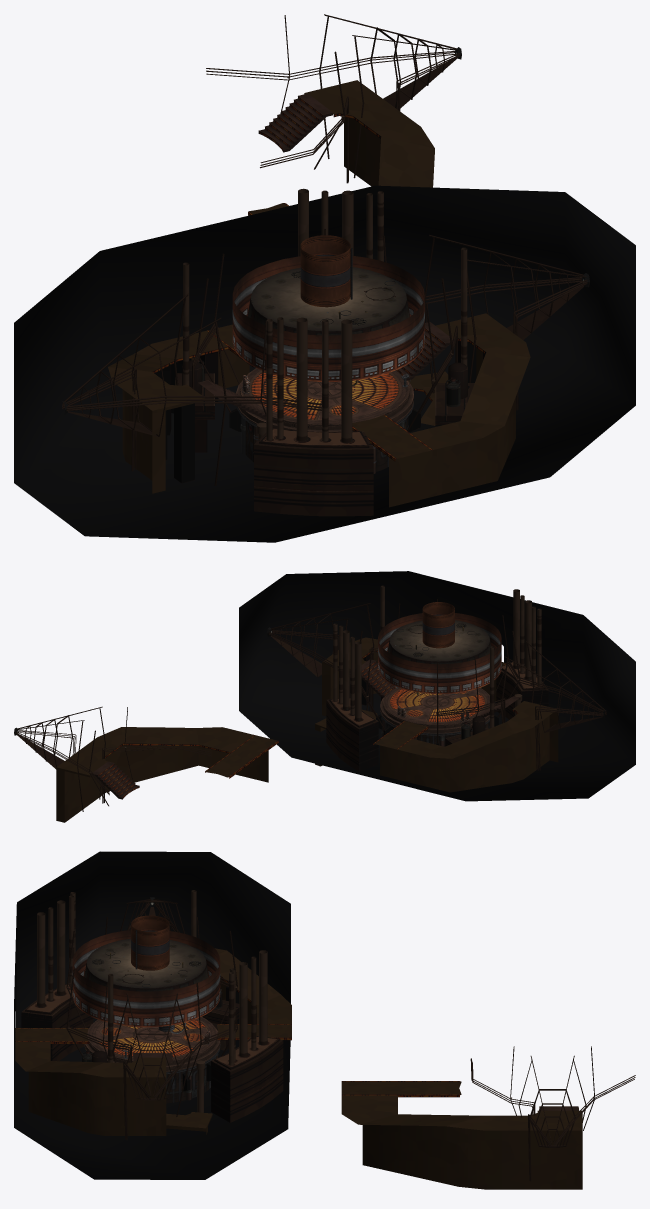
Rendered from env_besp_carbonite_chamber_01_pre.glb.
The picture shows the model from 3 angles, top to bottom: view 1: azimuth 30°, elevation 25°; view 2: azimuth 150°, elevation 25°; view 3: azimuth 270°, elevation 25°; orthographic projection. The views are drawn at different scales.
Parts seen in each view (by area): view 1: refinery_shell (1), refinery_ext_props (1), besp_refinery_ceiling_01_mesh, refinery_walkway1 (2), refinery_ext_props1 (1), refinery_walkway (1), refinery_walkway1, besp_refinery_floor_01a_mesh, besp_refinery_frame_half_01_mesh, besp_refinery_arm_01_mesh, besp_refinery_floor_01b_mesh, besp_refinery_stairs_01_mesh (1) (+3 smaller); view 2: refinery_shell (1), refinery_walkway1, refinery_walkway (1), refinery_ext_props1 (1), besp_refinery_ceiling_01_mesh, refinery_ext_props (1), besp_refinery_floor_01a_mesh, besp_refinery_frame_half_01_mesh, besp_refinery_arm_01_mesh, refinery_walkway1 (2), besp_refinery_floor_01b_mesh, besp_refinery_stairs_01_mesh (1) (+2 smaller); view 3: refinery_shell (1), refinery_walkway1, refinery_ext_props1 (1), refinery_walkway1 (2), besp_refinery_ceiling_01_mesh, refinery_ext_props (1), besp_refinery_floor_01a_mesh, refinery_walkway (1), besp_refinery_arm_01_mesh, besp_refinery_frame_half_01_mesh, besp_refinery_floor_01b_mesh, refinery_walkway1 (3).
Boxes of the visible parts, x1,y1,x2,y2 form: refinery_shell (1): (14, 185, 635, 542); refinery_ext_props (1): (62, 253, 373, 516); besp_refinery_ceiling_01_mesh: (232, 256, 424, 386); refinery_walkway1 (2): (352, 313, 530, 507); refinery_ext_props1 (1): (298, 188, 589, 431); refinery_walkway (1): (108, 324, 253, 493); refinery_walkway1: (248, 80, 434, 215); besp_refinery_floor_01a_mesh: (240, 368, 409, 424); besp_refinery_frame_half_01_mesh: (206, 14, 461, 178); besp_refinery_arm_01_mesh: (300, 235, 352, 307); besp_refinery_floor_01b_mesh: (236, 380, 413, 473); besp_refinery_stairs_01_mesh (1): (258, 93, 332, 152); refinery_shell (1): (239, 571, 635, 801); refinery_walkway1: (56, 727, 278, 822); refinery_walkway (1): (373, 701, 558, 792); refinery_ext_props1 (1): (267, 585, 437, 771); besp_refinery_ceiling_01_mesh: (378, 613, 501, 695); refinery_ext_props (1): (436, 589, 606, 770); besp_refinery_floor_01a_mesh: (383, 687, 489, 724); besp_refinery_frame_half_01_mesh: (14, 706, 133, 811); besp_refinery_arm_01_mesh: (422, 602, 454, 648); refinery_walkway1 (2): (322, 637, 506, 715); besp_refinery_floor_01b_mesh: (380, 696, 489, 746); besp_refinery_stairs_01_mesh (1): (92, 761, 139, 799); refinery_shell (1): (14, 851, 290, 1179); refinery_walkway1: (341, 1081, 582, 1189); refinery_ext_props1 (1): (66, 950, 283, 1139); refinery_walkway1 (2): (15, 1028, 166, 1135); besp_refinery_ceiling_01_mesh: (72, 930, 220, 1033); refinery_ext_props (1): (21, 890, 256, 1061); besp_refinery_floor_01a_mesh: (87, 1017, 217, 1060); refinery_walkway (1): (215, 948, 291, 1040); besp_refinery_arm_01_mesh: (131, 915, 169, 970); besp_refinery_frame_half_01_mesh: (510, 1046, 635, 1181); besp_refinery_floor_01b_mesh: (84, 1028, 220, 1103); refinery_walkway1 (3): (166, 1112, 212, 1134).
Size of the model in its own units: 72.07 by 26.08 by 75.48.
Materials: 11 (10 with a texture image).
